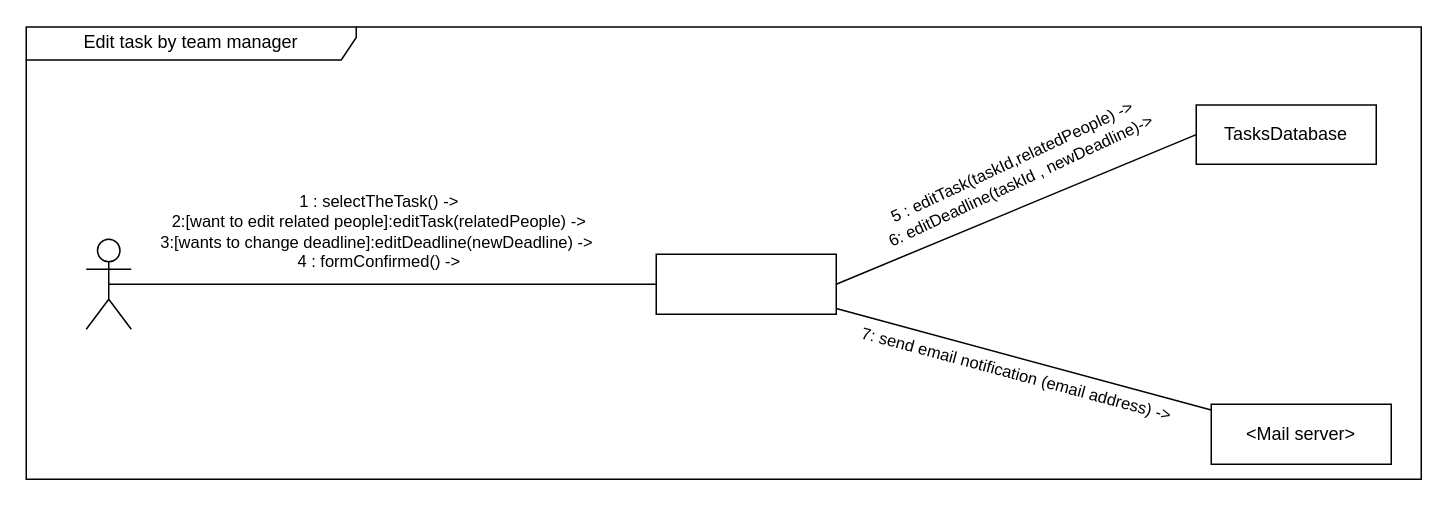
The diagram is 1448 pixels wide and 506 high, and some of its shapes have lost their labels. The centre of each missing label's shape, as x and y in pixels:
System: (x=745, y=283)
Team manager: (x=108, y=283)
